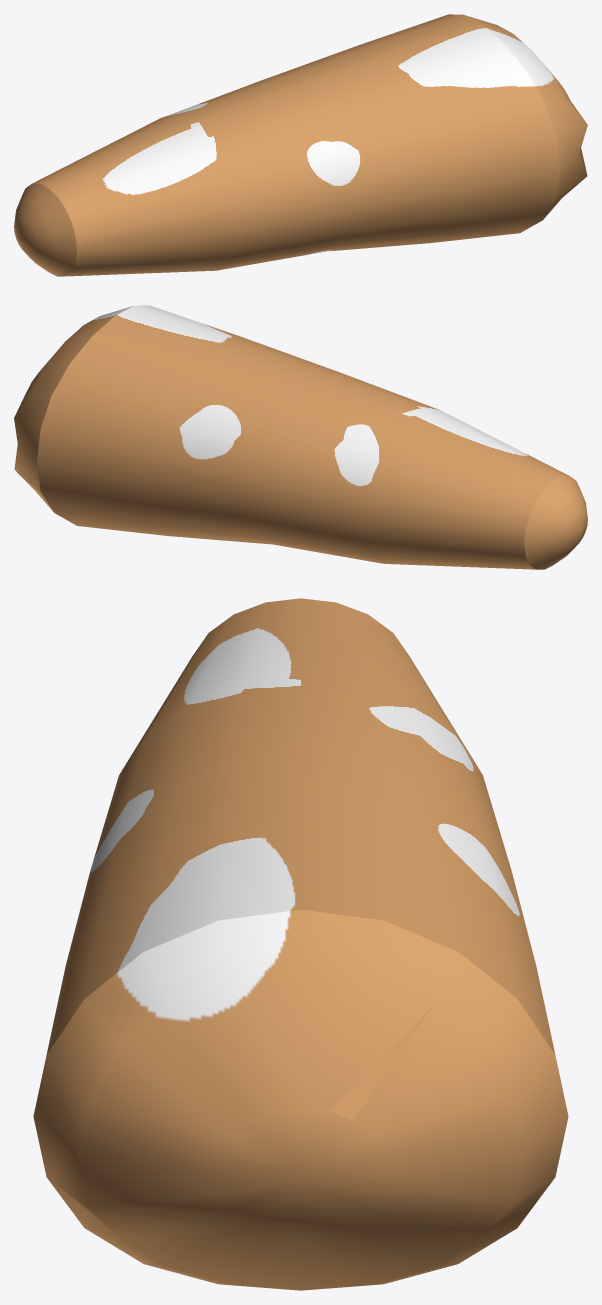
The model's file is cha_dog_leftarm.obj.
3 renders of one model, top to bottom at view 1: azimuth 30°, elevation 25°; view 2: azimuth 150°, elevation 25°; view 3: azimuth 270°, elevation 25°, orthographic. The views are drawn at different scales.
Visible parts, largest first — view 1: cha_dog_leftarm; view 2: cha_dog_leftarm; view 3: cha_dog_leftarm.
Part boxes in pixels (x1=…): cha_dog_leftarm: x1=14, y1=14, x2=587, y2=276; cha_dog_leftarm: x1=14, y1=305, x2=587, y2=569; cha_dog_leftarm: x1=33, y1=598, x2=568, y2=1290.
Bounding box in the file's own units: 0.559 × 0.1963 × 0.2415.
1 material, 1 textured.
